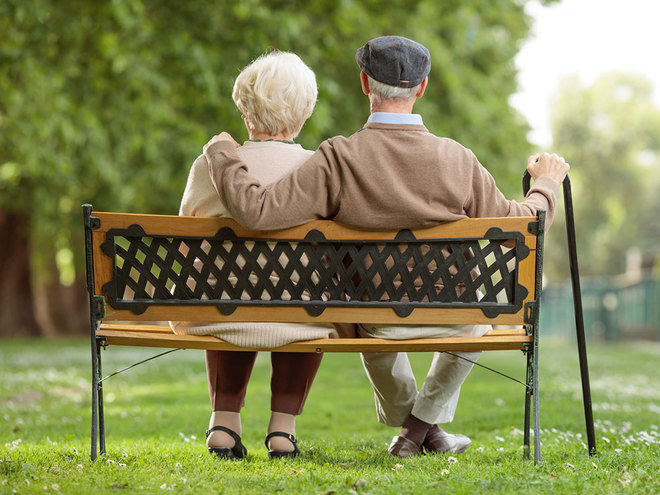Person: (194, 26, 570, 464), (166, 43, 343, 460)
